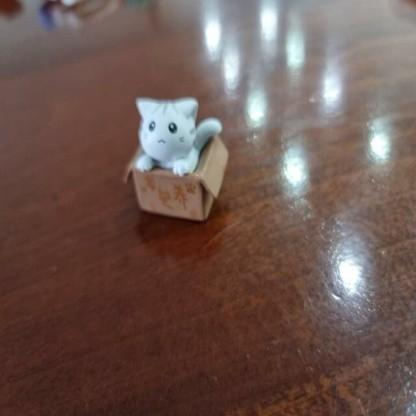not trash: (126, 97, 230, 224)
